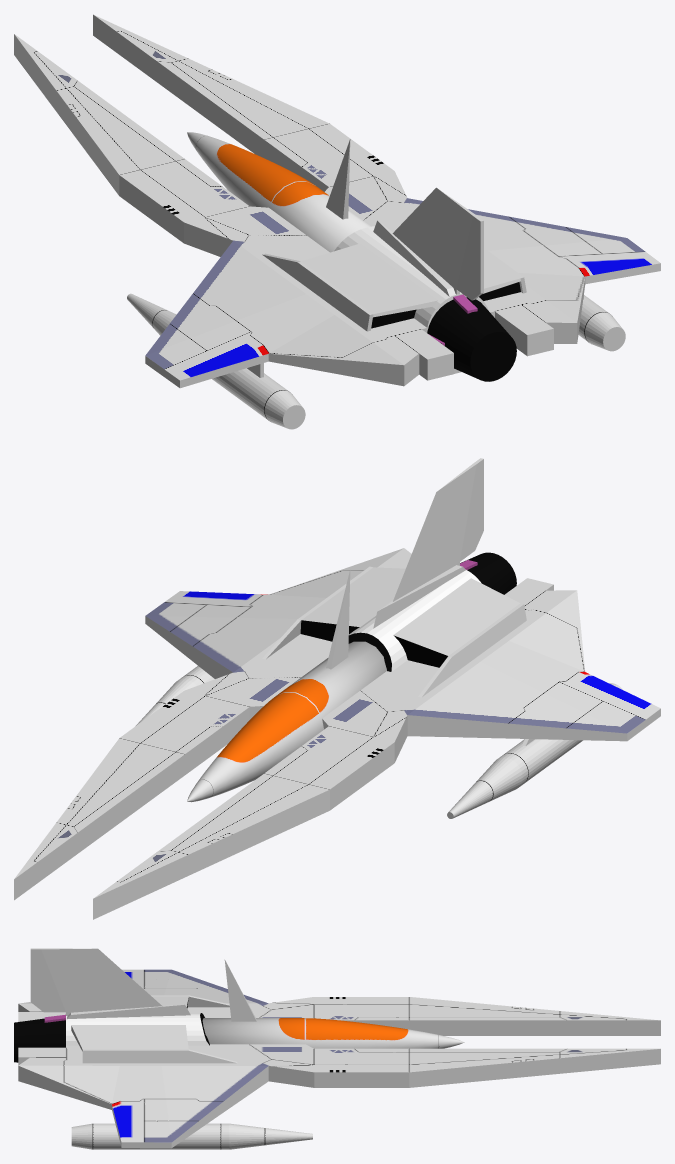
The model's file is VicViper.fbx.
The picture shows the model from 3 angles, top to bottom: view 1: azimuth 30°, elevation 25°; view 2: azimuth 150°, elevation 25°; view 3: azimuth 270°, elevation 25°; orthographic projection. The views are drawn at different scales.
Parts seen in each view (by area): view 1: Wing, Cube, Pit, TopWing, Weapon, Engine, PitBack, PitWing; view 2: Wing, Cube, Pit, TopWing, Weapon, PitBack, Engine, PitWing; view 3: Wing, TopWing, Pit, Cube, Weapon, PitBack, Engine, PitWing.
Part boxes in pixels (left/top/right/bottom): Wing: left=14, top=14, right=660, bottom=388; Cube: left=262, top=243, right=526, bottom=331; Pit: left=187, top=132, right=370, bottom=252; TopWing: left=373, top=187, right=483, bottom=300; Weapon: left=127, top=293, right=625, bottom=429; Engine: left=427, top=294, right=516, bottom=381; PitBack: left=334, top=226, right=488, bottom=328; PitWing: left=326, top=139, right=350, bottom=219; Wing: left=14, top=548, right=660, bottom=919; Cube: left=262, top=566, right=526, bottom=697; Pit: left=187, top=641, right=386, bottom=802; TopWing: left=373, top=458, right=483, bottom=628; Weapon: left=136, top=666, right=622, bottom=818; PitBack: left=348, top=569, right=481, bottom=671; Engine: left=460, top=552, right=516, bottom=594; PitWing: left=326, top=570, right=350, bottom=669; Wing: left=18, top=969, right=660, bottom=1148; TopWing: left=30, top=948, right=190, bottom=1019; Pit: left=202, top=1018, right=464, bottom=1048; Cube: left=71, top=995, right=237, bottom=1063; Weapon: left=71, top=1123, right=312, bottom=1149; PitBack: left=66, top=1013, right=209, bottom=1045; Engine: left=14, top=1014, right=65, bottom=1062; PitWing: left=224, top=959, right=256, bottom=1021.
Bounding box in the file's own units: 11.81 × 4.53 × 18.66.
9 materials, 6 textured.
